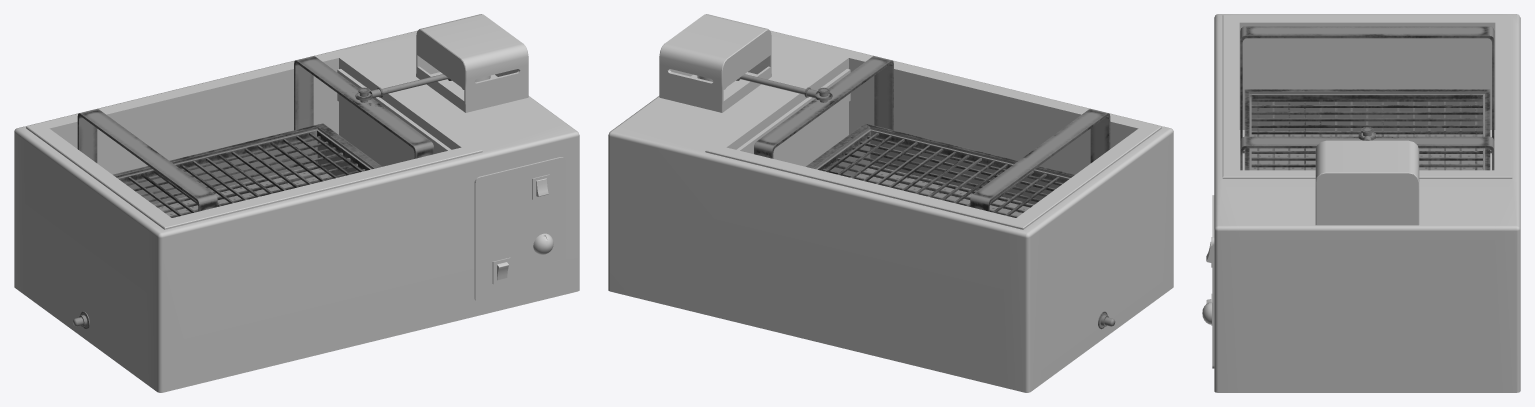
The model's file is SM_摆件设备_007.fbx.
3 views of the same model, side by side, from view 1: azimuth 30°, elevation 25°; view 2: azimuth 150°, elevation 25°; view 3: azimuth 270°, elevation 25° (orthographic). The views are drawn at different scales.
Parts seen in each view (by area): view 1: SM_摆件设备_007; view 2: SM_摆件设备_007; view 3: SM_摆件设备_007.
Boxes of the visible parts, <box> form: SM_摆件设备_007: <box>14,14,579,392</box>; SM_摆件设备_007: <box>608,14,1173,392</box>; SM_摆件设备_007: <box>1202,14,1520,392</box>.
Bounding box in the file's own units: 672 × 409 × 317.
